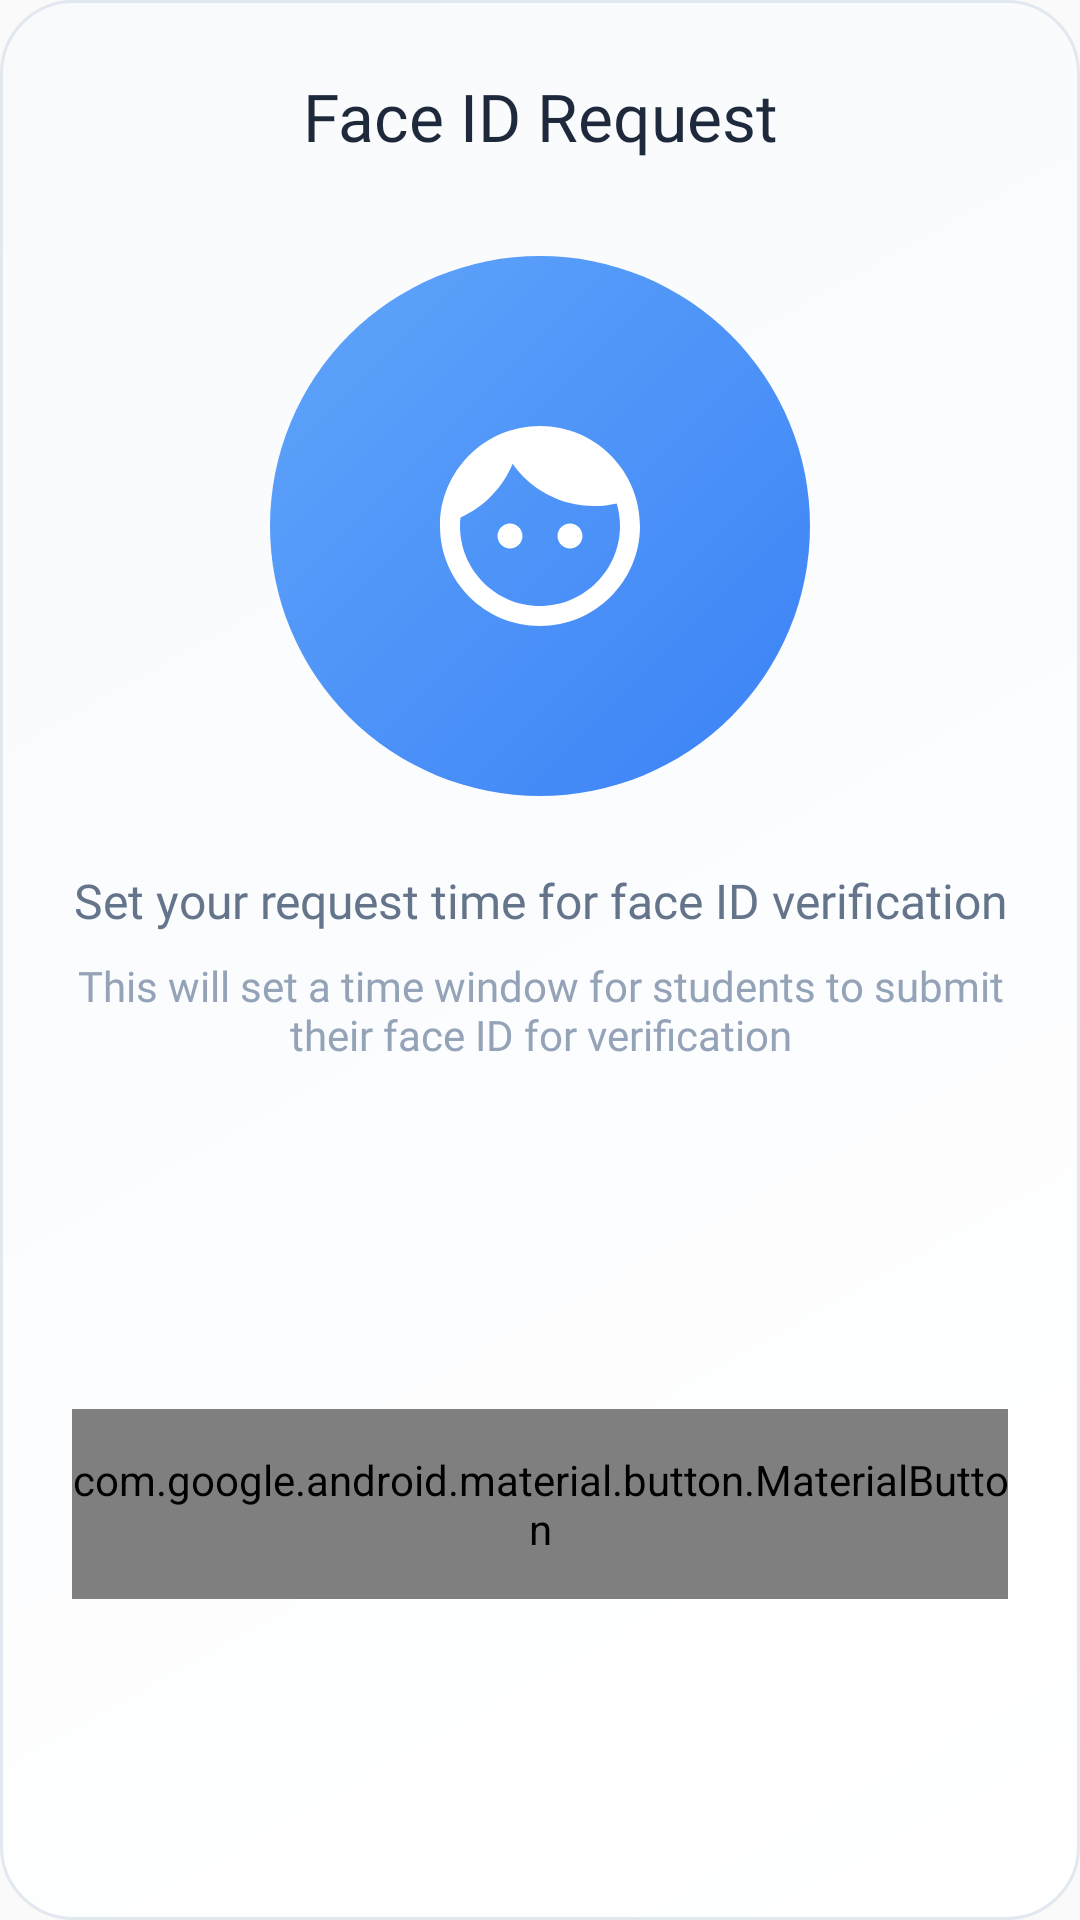

Named icons in this screenshot (1080w x 1920h) and their centers, point (x, y):
face id enhanced: point (540, 526)
